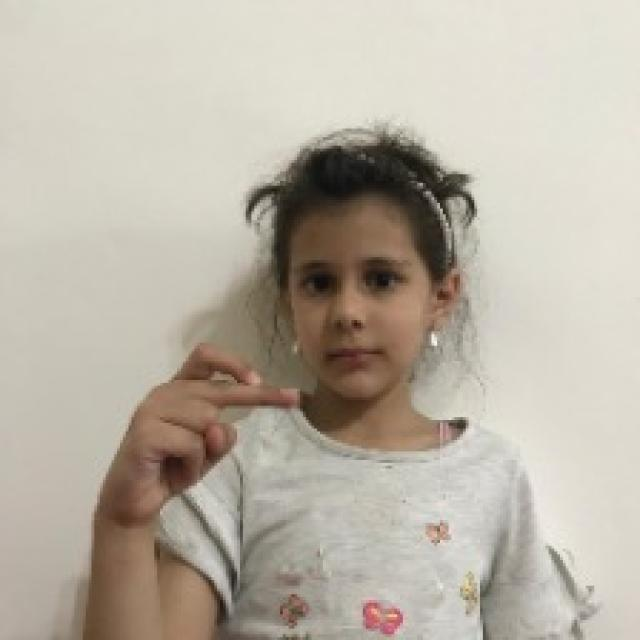sunday: (96, 334, 306, 504)
